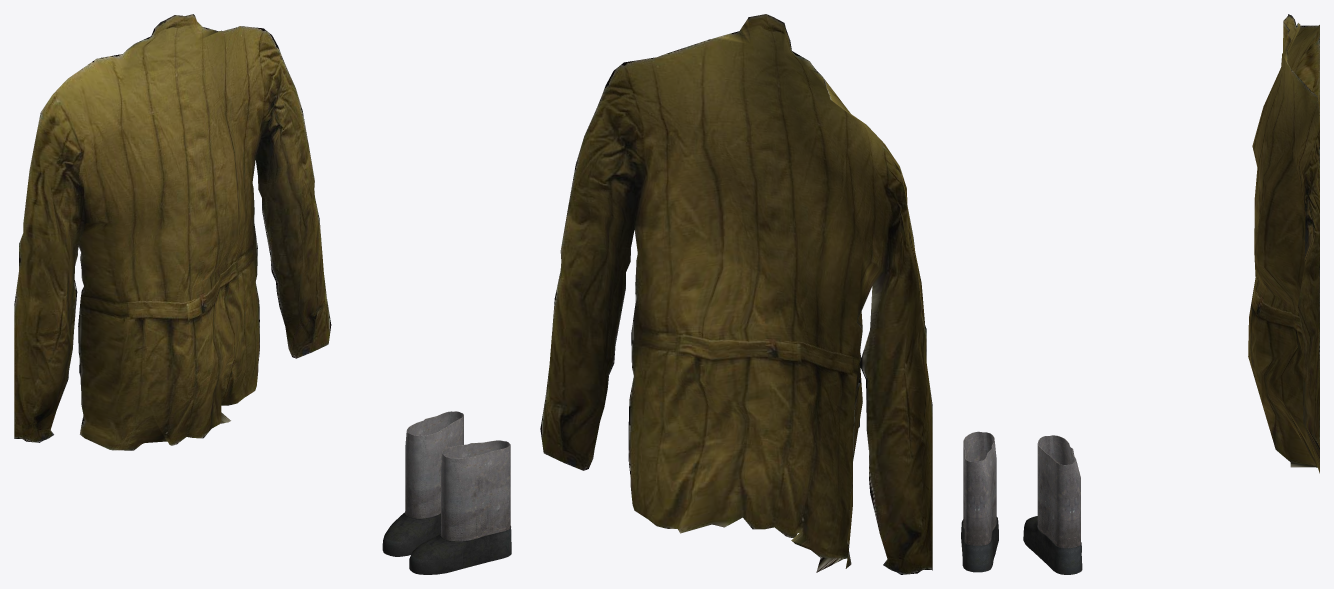
File: clothes_old.fbx
3 views of the same model, side by side, from view 1: azimuth 30°, elevation 25°; view 2: azimuth 150°, elevation 25°; view 3: azimuth 270°, elevation 25° (orthographic). The views are drawn at different scales.
Visible parts, largest first — view 1: jacket_old, boot_left, boot_right; view 2: jacket_old; view 3: jacket_old, boot_right, boot_left.
Boxes of the visible parts, <box> form: jacket_old: <box>14,14,331,450</box>; boot_left: <box>409,440,511,574</box>; boot_right: <box>382,411,463,556</box>; jacket_old: <box>540,14,932,574</box>; jacket_old: <box>1248,14,1319,473</box>; boot_right: <box>1023,435,1082,574</box>; boot_left: <box>961,431,998,572</box>.
Size of the model in its own units: 226 by 312 by 215.
